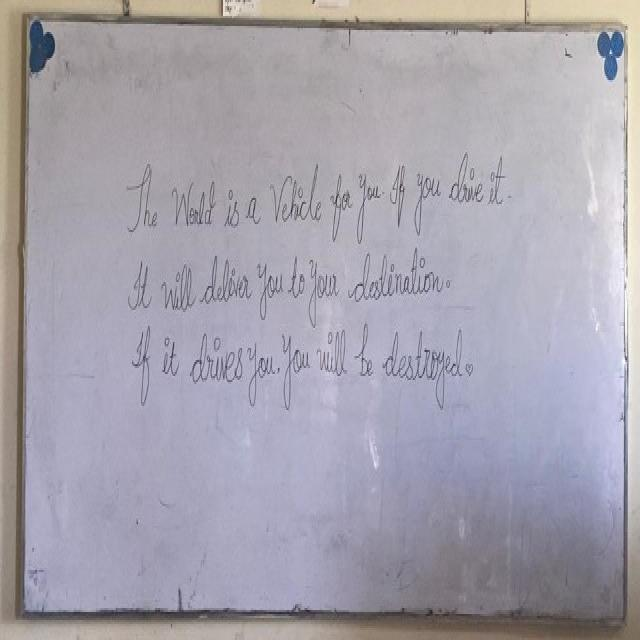White-board: (22, 18, 629, 625)
